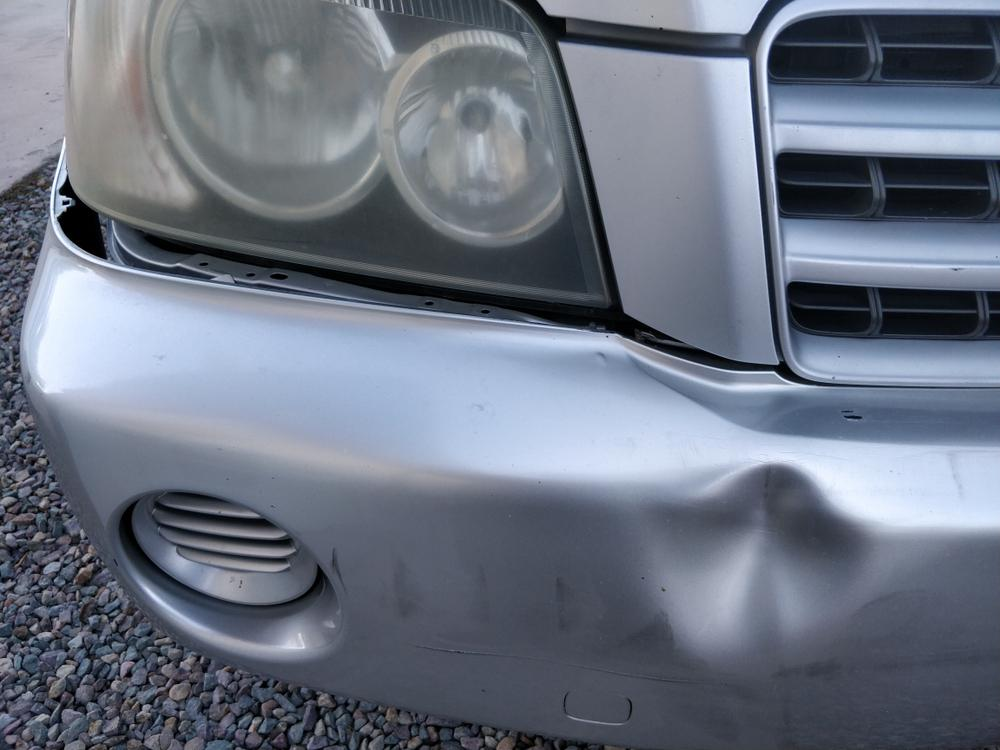dent: (641, 464, 866, 654)
